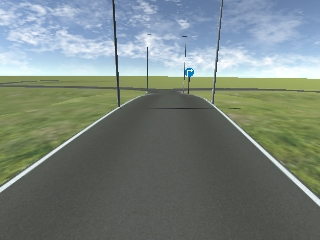right: (185, 68, 194, 78)
